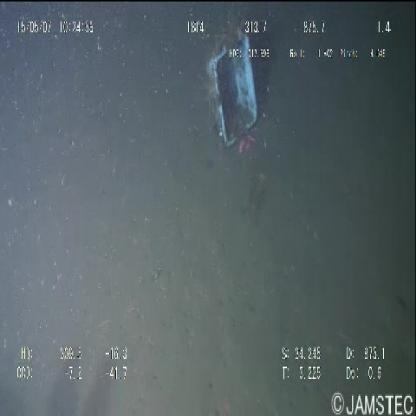Rác: (203, 22, 262, 154)
